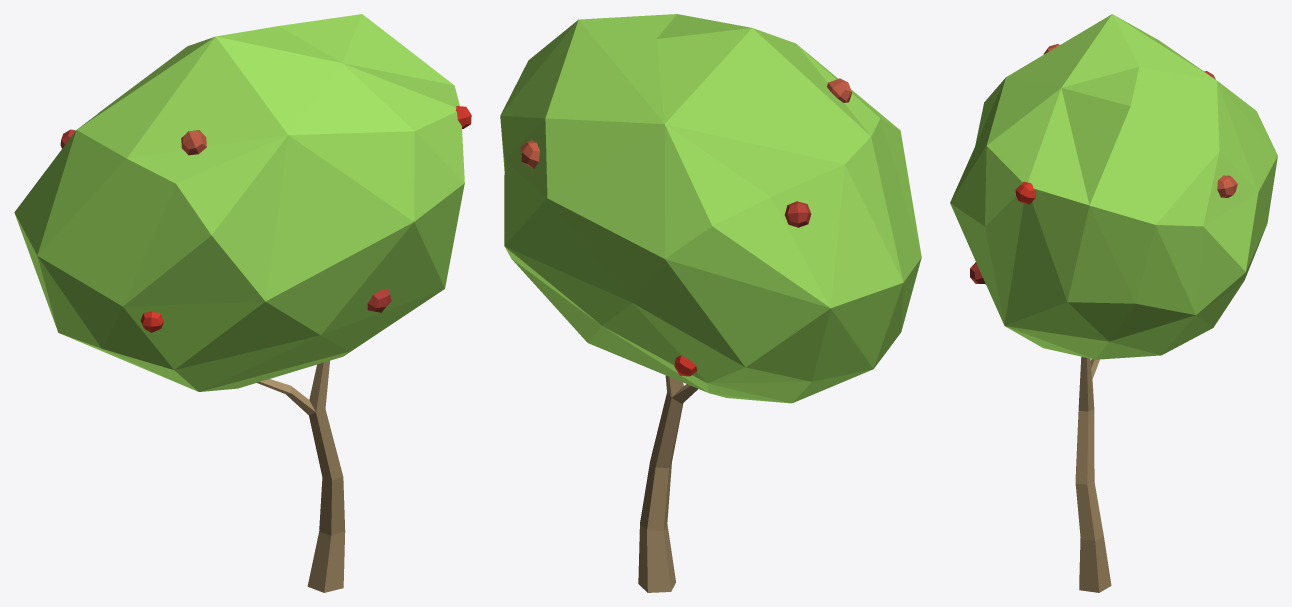
File: Apple_Tree_Apples_m_01_LOD.fbx
3 views of the same model, side by side, from view 1: azimuth 30°, elevation 25°; view 2: azimuth 150°, elevation 25°; view 3: azimuth 270°, elevation 25° (orthographic). The views are drawn at different scales.
Parts seen in each view (by area): view 1: Apple_Tree_Apples_m_01_LOD0; view 2: Apple_Tree_Apples_m_01_LOD0; view 3: Apple_Tree_Apples_m_01_LOD0.
Boxes of the visible parts, x1,y1,x2,y2 form: Apple_Tree_Apples_m_01_LOD0: (14, 14, 471, 592); Apple_Tree_Apples_m_01_LOD0: (500, 14, 921, 592); Apple_Tree_Apples_m_01_LOD0: (950, 14, 1277, 592).
Size of what is drawn, in the model's own units: 538 by 749 by 423.
